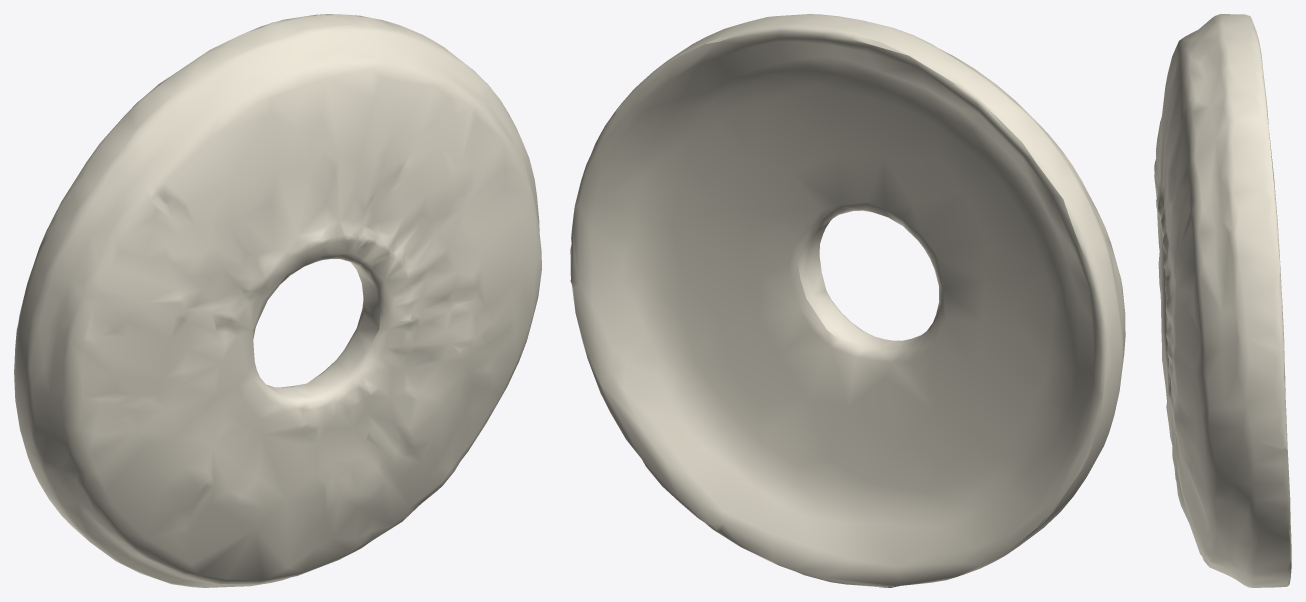
The model's file is fma58237_fj1297.glb.
3 renders of one model, left to right at view 1: azimuth 30°, elevation 25°; view 2: azimuth 150°, elevation 25°; view 3: azimuth 270°, elevation 25°, orthographic. The views are drawn at different scales.
Parts seen in each view (by area): view 1: FMA58237_FJ1297; view 2: FMA58237_FJ1297; view 3: FMA58237_FJ1297.
Part boxes in pixels (x1,y1,x2,y2): FMA58237_FJ1297: (14, 14, 541, 587); FMA58237_FJ1297: (570, 14, 1125, 587); FMA58237_FJ1297: (1154, 14, 1291, 587).
Size of the model in its own units: 0.0129 by 0.0128 by 0.00308.
